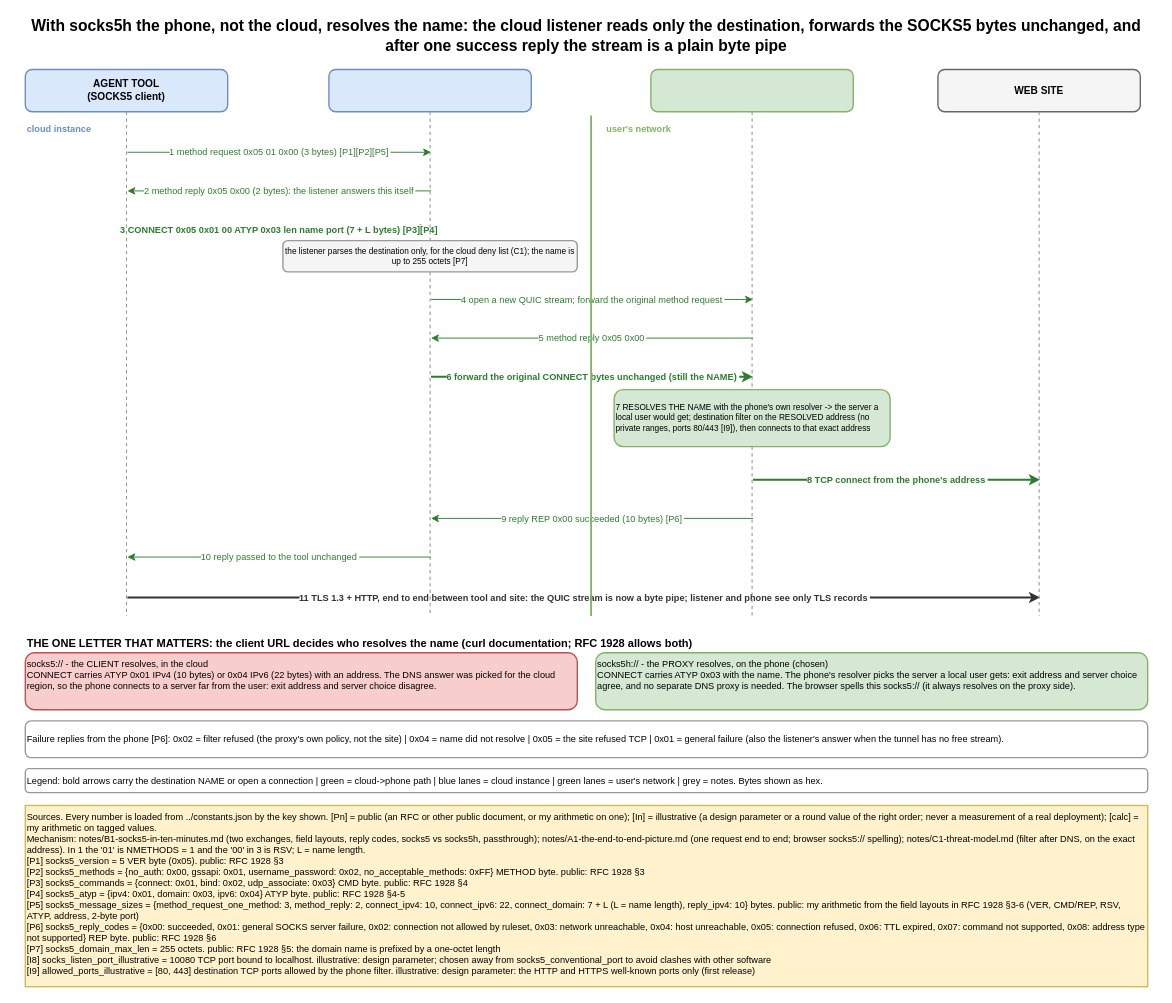
This 1172x1003 diagram has some shape labels left out. Here are the shapes that lost their labels. From the top down, the centre of each, then its label:
At (430,90): "PASSTHROUGH LISTENER localhost:10080 [I8]".
At (752,90): "PHONE (SOCKS5 server + resolver)".
